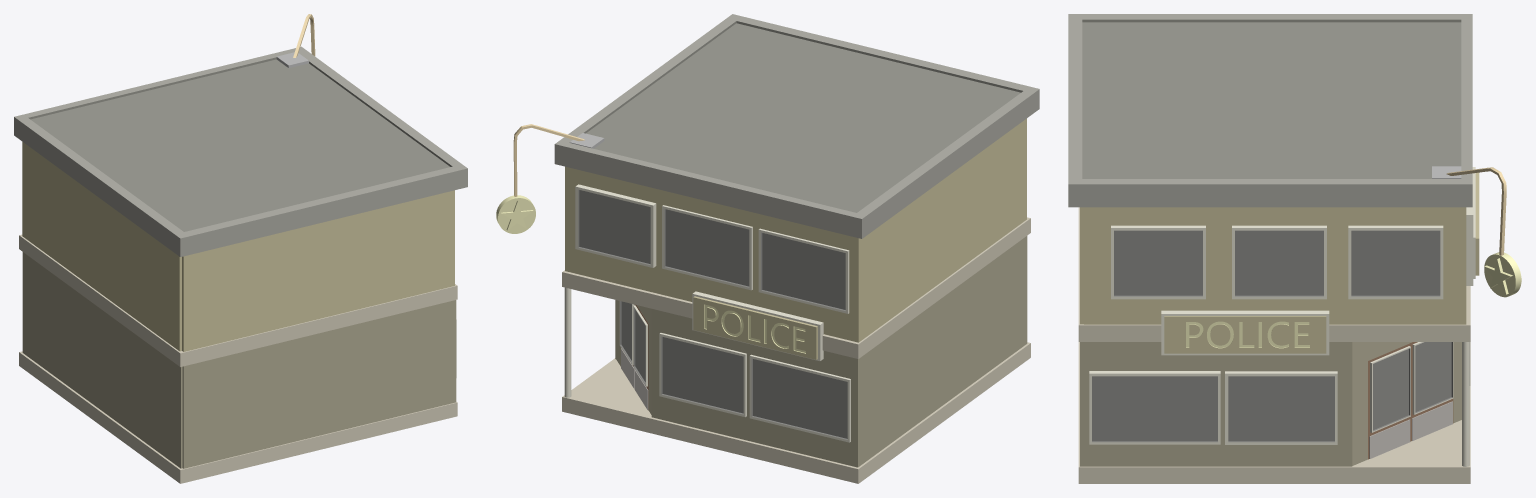
The model's file is house22.fbx.
3 renders of one model, left to right at view 1: azimuth 30°, elevation 25°; view 2: azimuth 150°, elevation 25°; view 3: azimuth 270°, elevation 25°, orthographic. The views are drawn at different scales.
Visible parts, largest first — view 1: Extrude_1; view 2: Extrude_1; view 3: Extrude_1.
Boxes of the visible parts, x1,y1,x2,y2 form: Extrude_1: (14, 14, 467, 483); Extrude_1: (496, 14, 1039, 483); Extrude_1: (1068, 14, 1521, 483).
Bounding box in the file's own units: 1295 × 1029 × 1289.
